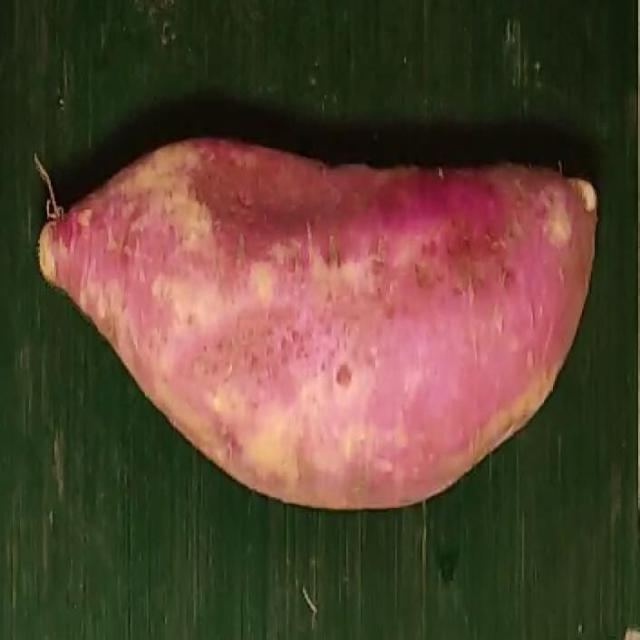Sweet Potato: (37, 138, 598, 512)
